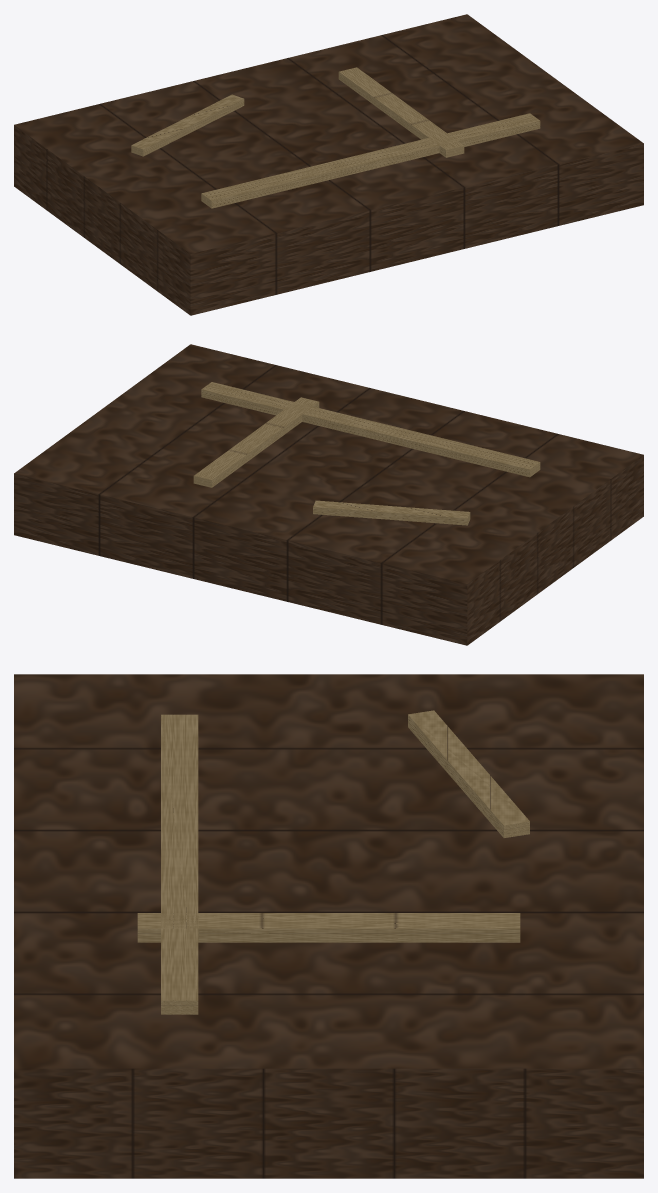
File: old_foundation_stone.glb
3 views of the same model, one above another, from view 1: azimuth 30°, elevation 25°; view 2: azimuth 150°, elevation 25°; view 3: azimuth 270°, elevation 25° (orthographic). The views are drawn at different scales.
Visible parts, largest first — view 1: old_foundation_stone; view 2: old_foundation_stone; view 3: old_foundation_stone.
Part boxes in pixels (box(x1,y1,x2,y2)): old_foundation_stone: box(14, 14, 643, 315); old_foundation_stone: box(14, 344, 643, 645); old_foundation_stone: box(14, 674, 643, 1178).
Size of the model in its own units: 2 by 0.295 by 1.35.
1 material, 1 textured.
